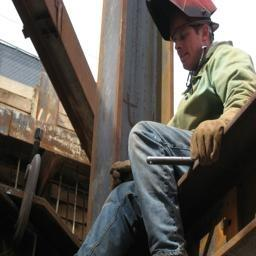no hat: (134, 1, 228, 78)
no vest: (170, 53, 256, 176)
